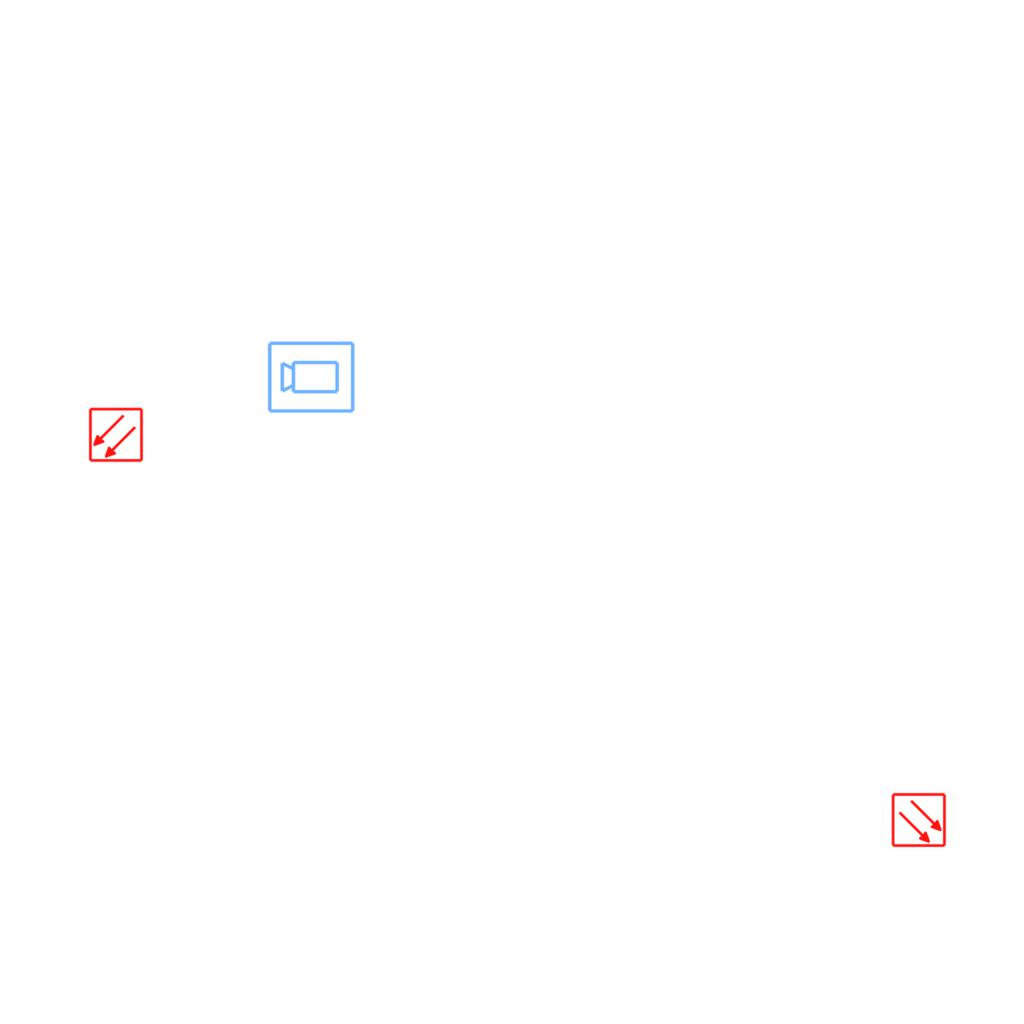KFO_Kamera_mit_Festobjektiv: (266, 338, 357, 415)
RMO_Rauchmelder_optischer: (891, 792, 947, 848), (88, 407, 144, 463)
